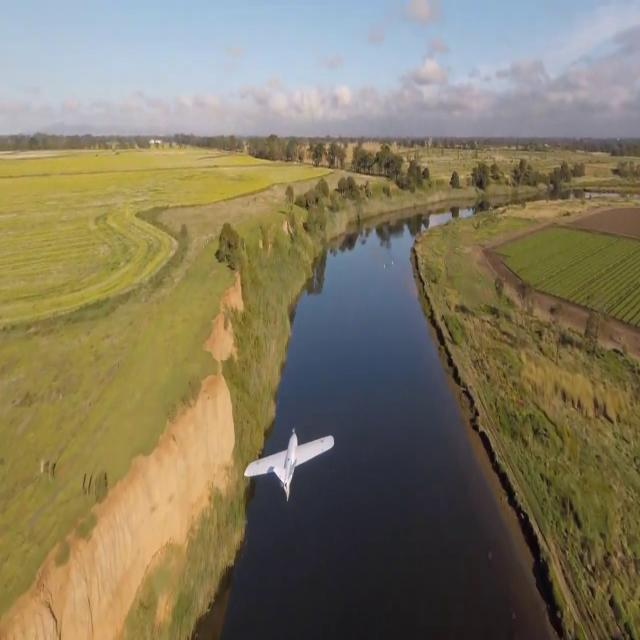iha: (275, 432, 302, 493)
